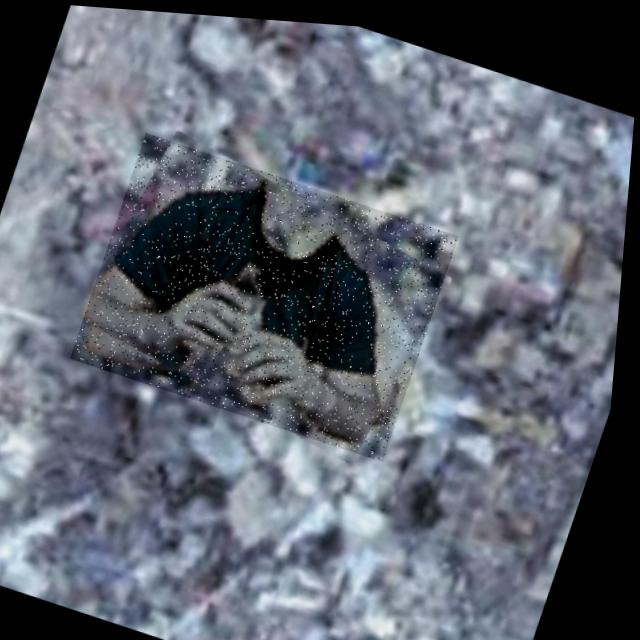Person in Rubble: (70, 127, 467, 459)
